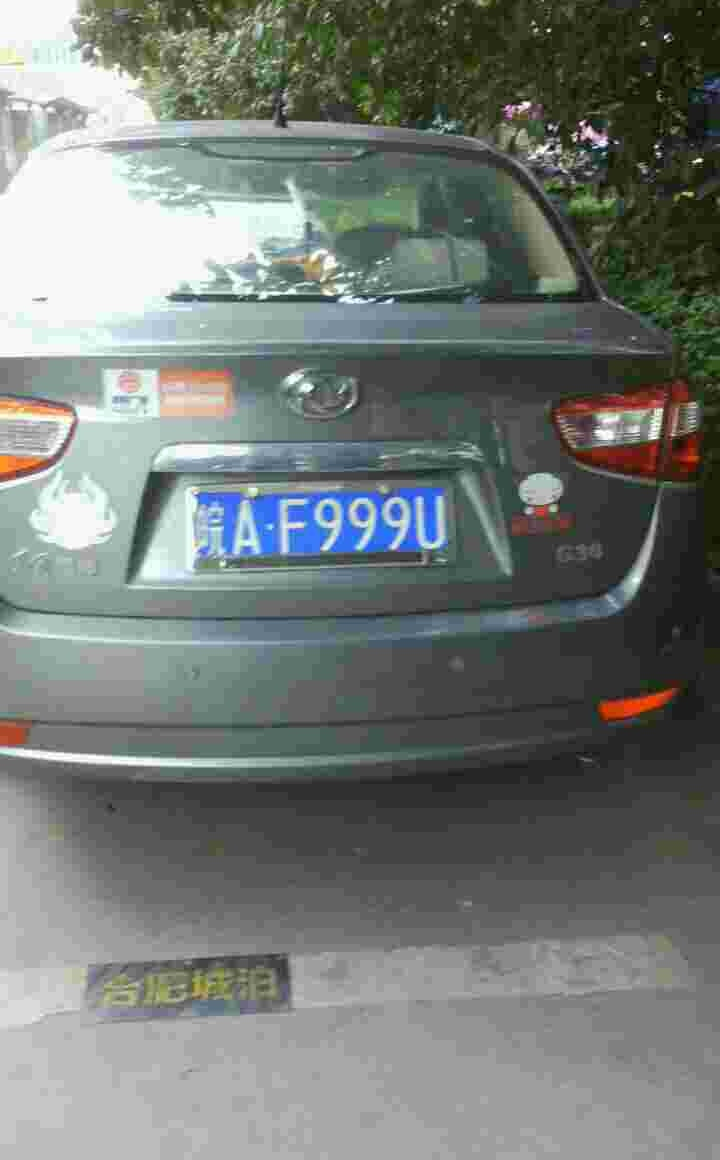plate: (192, 477, 459, 574)
